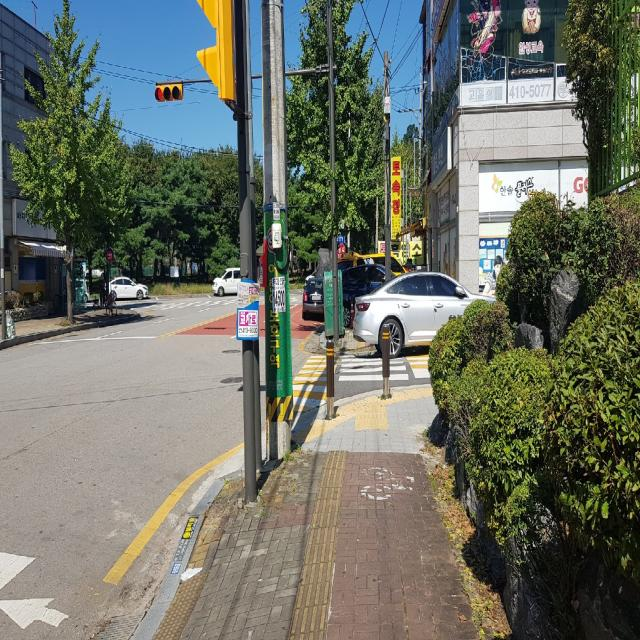횡단보도: (338, 354, 409, 382)
